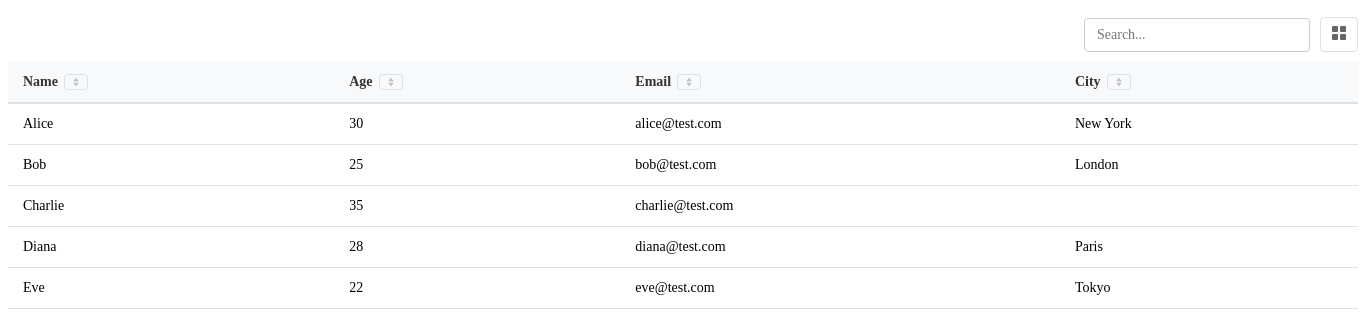
Test case: Table Component › Searching › filters rows matching search text
Type "Alice" into the field named "Search table data" at [1197, 34], box [1084, 18, 1310, 52]
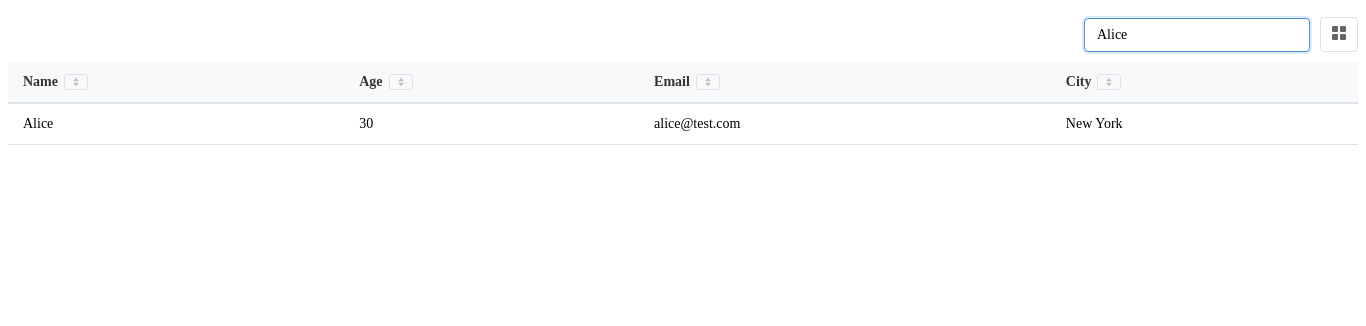
Expected: the text "Alice" is shown, [8, 103, 344, 144]
Now the text "Bob" is gone
